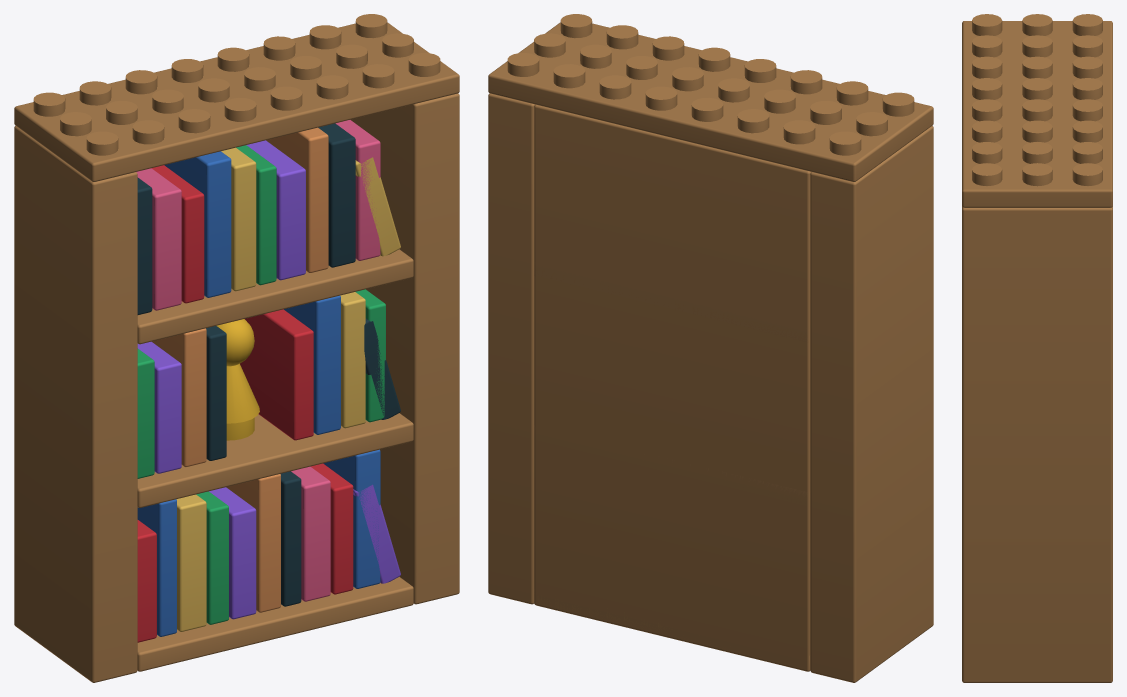
File: bookshelf.glb
3 views of the same model, side by side, from view 1: azimuth 30°, elevation 25°; view 2: azimuth 150°, elevation 25°; view 3: azimuth 270°, elevation 25° (orthographic). The views are drawn at different scales.
Parts seen in each view (by area): view 1: bookshelf-solid, bookshelf-metal; view 2: bookshelf-solid; view 3: bookshelf-solid.
Boxes of the visible parts, <box> form: bookshelf-solid: <box>14,14,459,682</box>; bookshelf-metal: <box>216,319,259,440</box>; bookshelf-solid: <box>488,14,933,682</box>; bookshelf-solid: <box>962,14,1112,682</box>.
Size of the model in its own units: 0.6395 by 0.882 by 0.2395.
